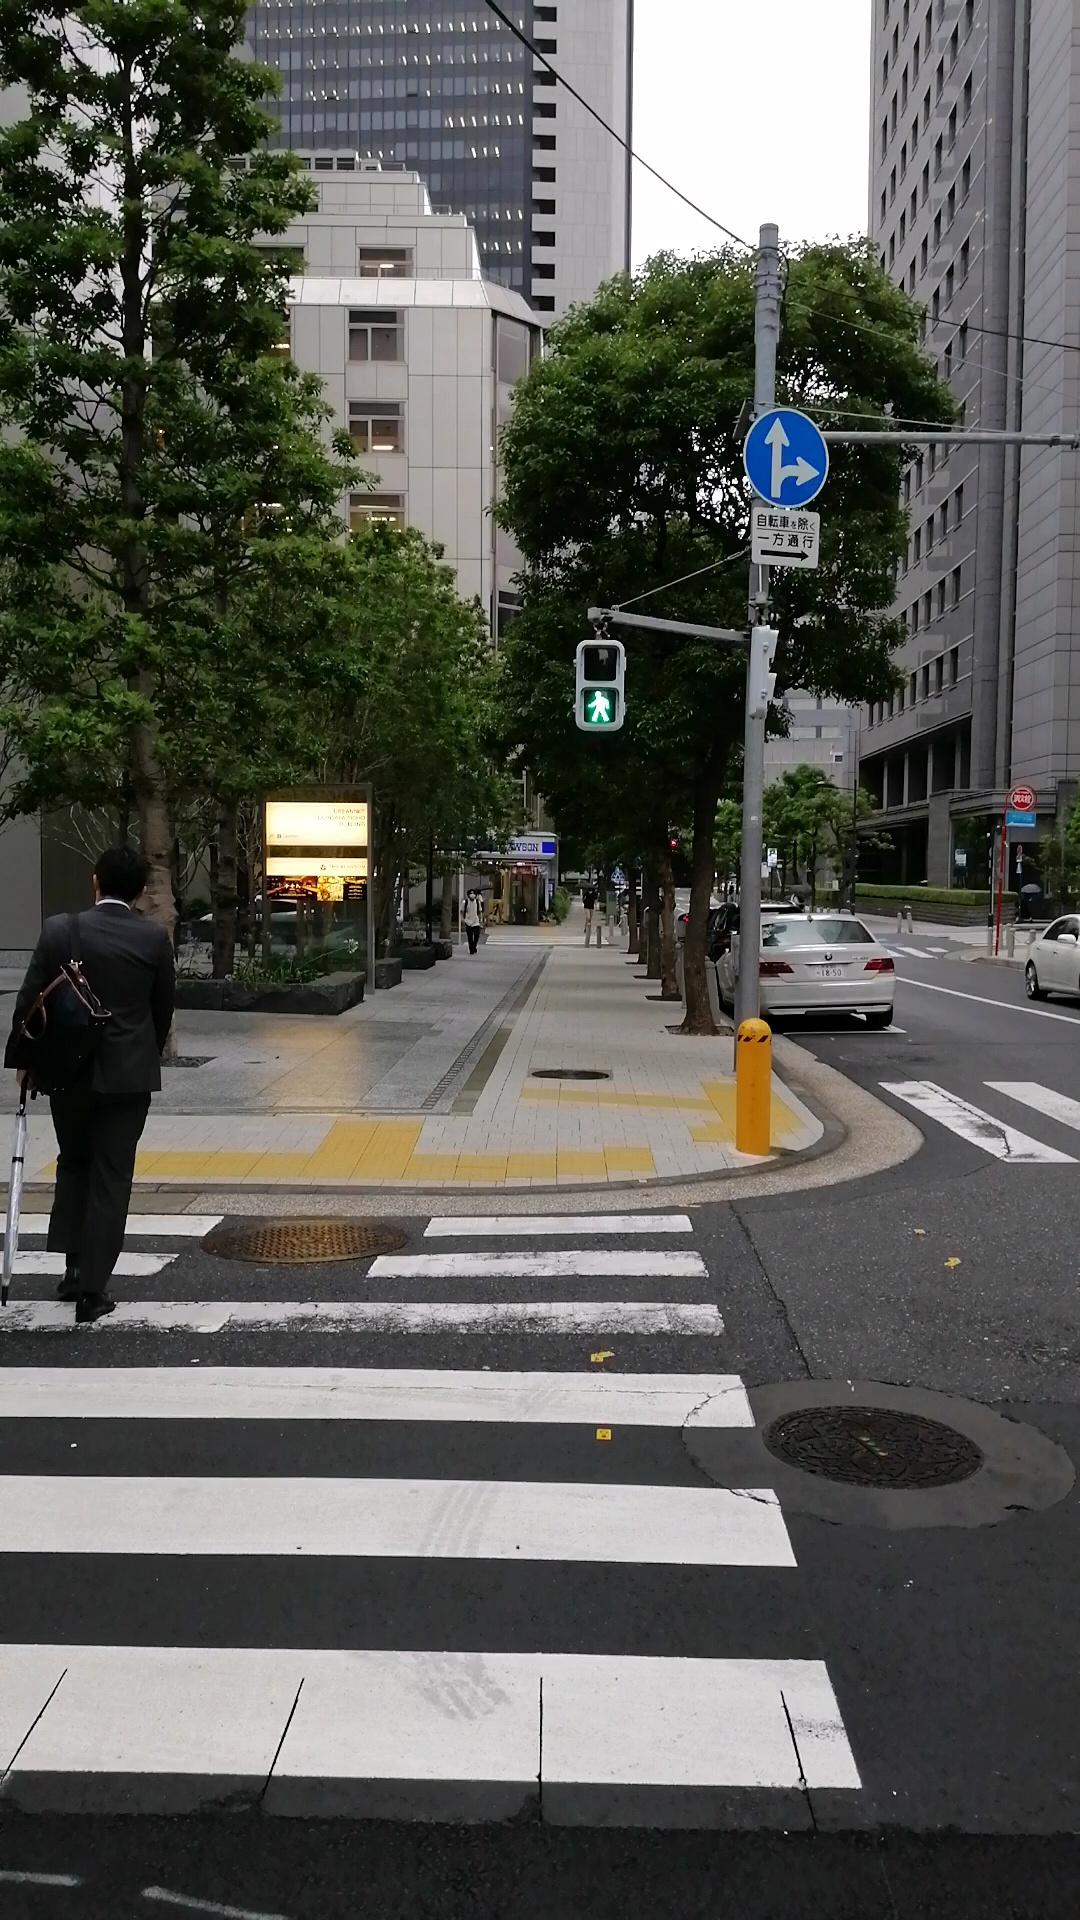green: (575, 638, 625, 732)
